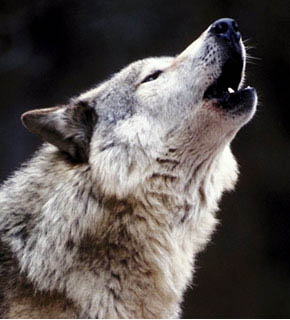wolf: (1, 18, 259, 315)
